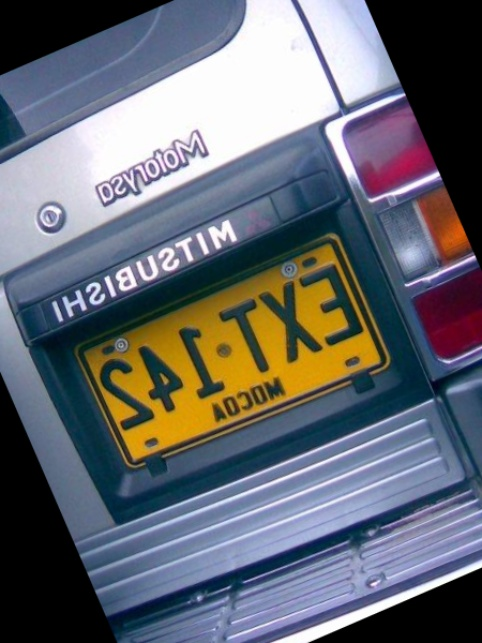placas: (66, 224, 399, 483)
